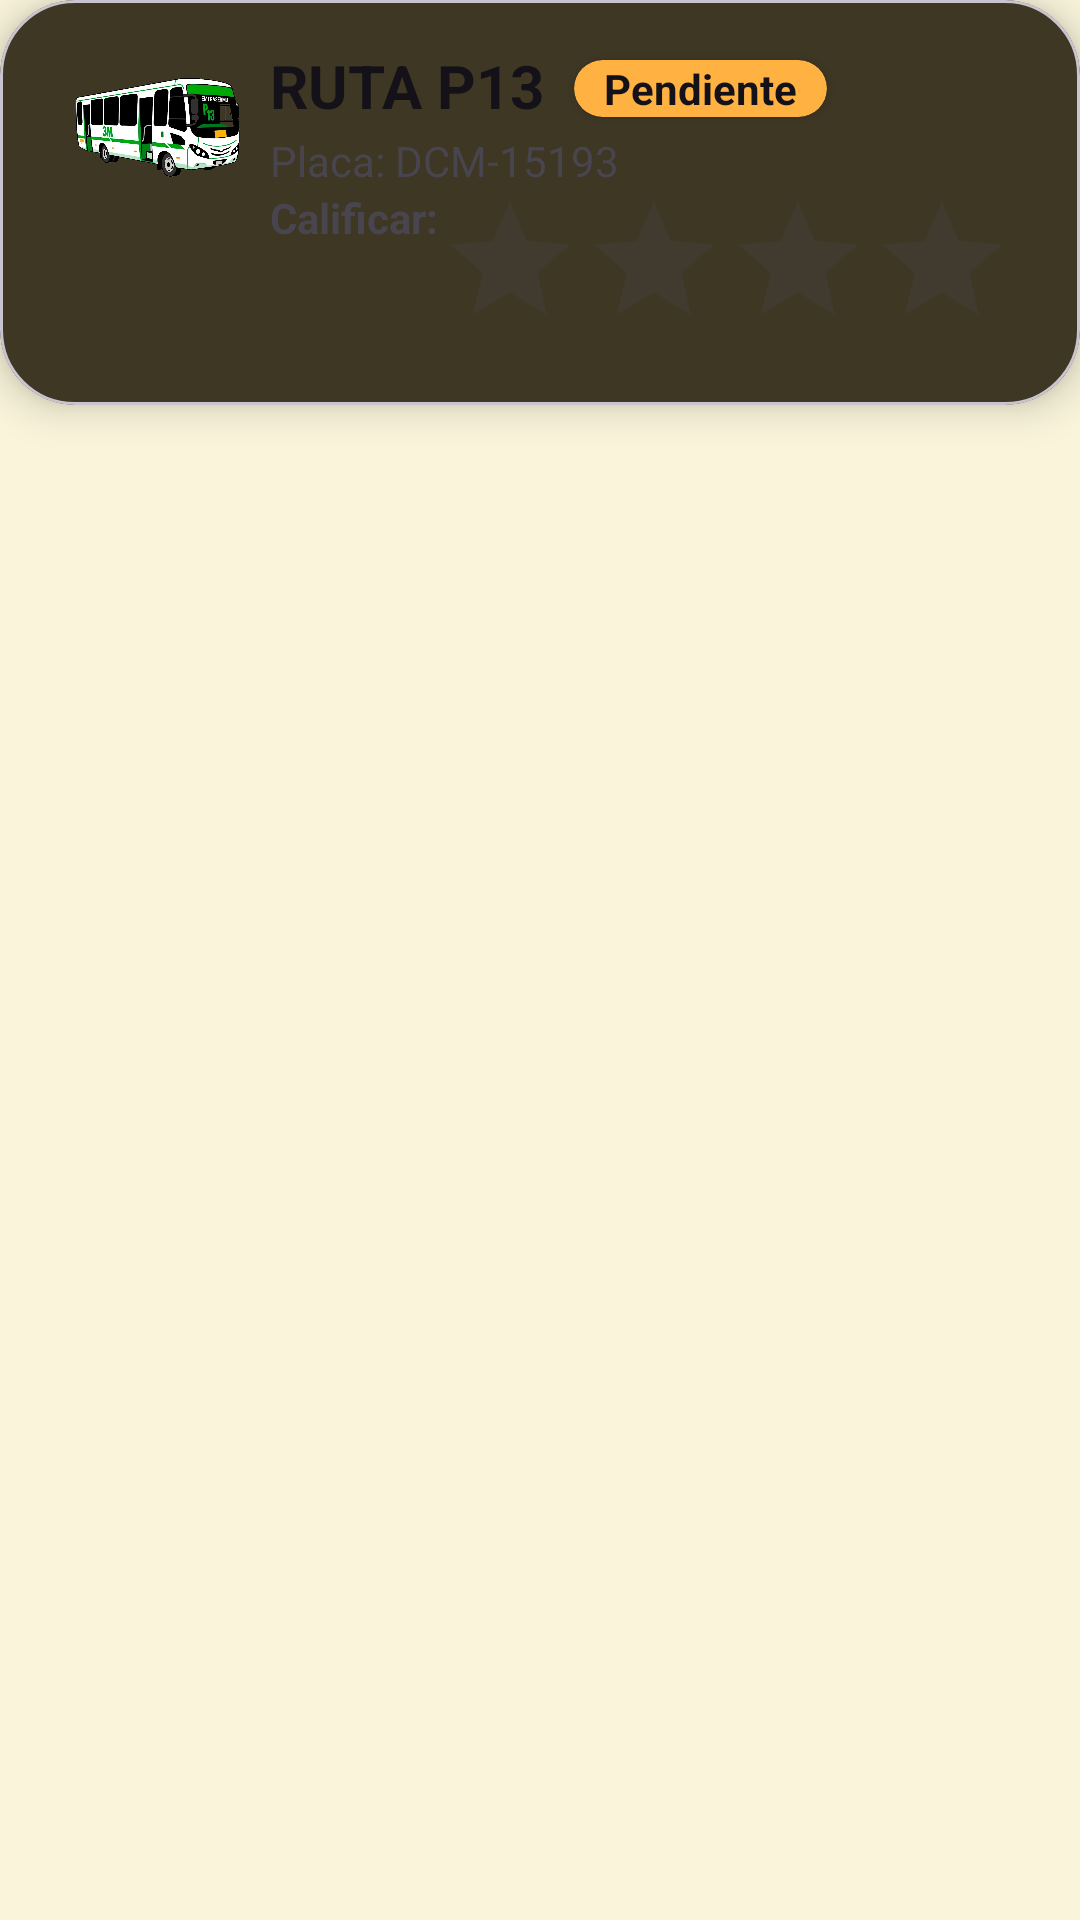

Named icons in this screenshot (1080*1920) and their centers, [x,y]:
Bus: [158,127]
